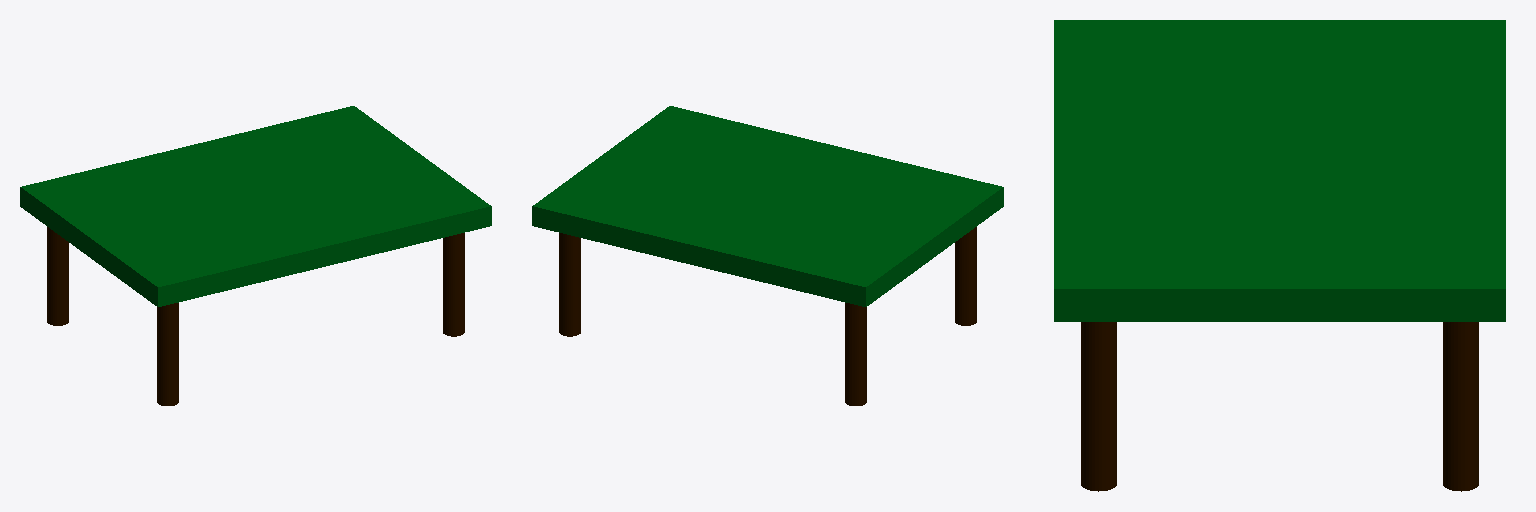
URDF robot description (snooker_table):
<?xml version="1.0"?>
<!--
  Snooker Table URDF for climbing task retargeting (visualization).
  
  Using box + cylinder primitives instead of mesh to match MuJoCo configuration.
  
  SCALED for 1.78m human body (will be auto-scaled to G1 1.32m by retargeting).
  Scale factor: 1.78 / 1.32 = 1.348
  
  Original (for G1 1.32m, see scene_29dof_cue.xml):
  - Table center pos: (0, -1.6, 0.48)
  - Table size (full): 1.4m x 1.0m x 0.08m
  - Leg positions (relative): (±0.6, ±0.4, -0.4)
  - Leg size: radius=0.04m, height=0.8m
  
  Scaled (for human 1.78m, used here):
  - Table center pos: (0, -2.16, 0.65)
  - Table size (full): 1.888m x 1.348m x 0.108m
  - Leg positions (relative): (±0.809, ±0.539, -0.539)
  - Leg size: radius=0.054m, height=1.078m
-->
<robot name="snooker_table">
  <!-- Root world link -->
  <link name="world"/>
  
  <!-- Table top link -->
  <link name="table_top">
    <visual>
      <!-- World position: (0, -2.16, 0.65) -->
      <origin xyz="0 -2.16 0.65" rpy="0 0 0"/>
      <geometry>
        <!-- URDF box uses full size, not half size -->
        <box size="1.888 1.348 0.108"/>
      </geometry>
      <material name="table_material">
        <color rgba="0 0.4 0.1 1"/>
      </material>
    </visual>
    <collision name="table_top_collision">
      <origin xyz="0 -2.16 0.65" rpy="0 0 0"/>
      <geometry>
        <box size="1.888 1.348 0.108"/>
      </geometry>
    </collision>
    <inertial>
      <origin xyz="0 -2.16 0.65" rpy="0 0 0"/>
      <mass value="80.0"/>
      <inertia ixx="10.0" ixy="0.0" ixz="0.0" iyy="10.0" iyz="0.0" izz="10.0"/>
    </inertial>
  </link>
  
  <!-- Connect table_top to world - Joint at origin -->
  <joint name="world_to_table_top" type="fixed">
    <parent link="world"/>
    <child link="table_top"/>
    <origin xyz="0 0 0" rpy="0 0 0"/>
  </joint>
  
  <!-- Leg 1: Front-Right -->
  <link name="leg1">
    <visual>
      <!-- World pos: (0.809, -1.621, 0.298) -->
      <origin xyz="0.809 -1.621 0.298" rpy="0 0 0"/>
      <geometry>
        <cylinder radius="0.054" length="0.596"/>
      </geometry>
      <material name="leg_material">
        <color rgba="0.2 0.1 0 1"/>
      </material>
    </visual>
    <collision name="leg1_collision">
      <origin xyz="0.809 -1.621 0.298" rpy="0 0 0"/>
      <geometry>
        <cylinder radius="0.054" length="0.596"/>
      </geometry>
    </collision>
    <inertial>
      <origin xyz="0.809 -1.621 0.298" rpy="0 0 0"/>
      <mass value="5.0"/>
      <inertia ixx="1.0" ixy="0.0" ixz="0.0" iyy="1.0" iyz="0.0" izz="1.0"/>
    </inertial>
  </link>
  <joint name="world_to_leg1" type="fixed">
    <parent link="world"/>
    <child link="leg1"/>
    <origin xyz="0 0 0" rpy="0 0 0"/>
  </joint>
  
  <!-- Leg 2: Back-Right -->
  <link name="leg2">
    <visual>
      <!-- World pos: (0.809, -2.699, 0.298) -->
      <origin xyz="0.809 -2.699 0.298" rpy="0 0 0"/>
      <geometry>
        <cylinder radius="0.054" length="0.596"/>
      </geometry>
      <material name="leg_material">
        <color rgba="0.2 0.1 0 1"/>
      </material>
    </visual>
    <collision name="leg2_collision">
      <origin xyz="0.809 -2.699 0.298" rpy="0 0 0"/>
      <geometry>
        <cylinder radius="0.054" length="0.596"/>
      </geometry>
    </collision>
    <inertial>
      <origin xyz="0.809 -2.699 0.298" rpy="0 0 0"/>
      <mass value="5.0"/>
      <inertia ixx="1.0" ixy="0.0" ixz="0.0" iyy="1.0" iyz="0.0" izz="1.0"/>
    </inertial>
  </link>
  <joint name="world_to_leg2" type="fixed">
    <parent link="world"/>
    <child link="leg2"/>
    <origin xyz="0 0 0" rpy="0 0 0"/>
  </joint>
  
  <!-- Leg 3: Front-Left -->
  <link name="leg3">
    <visual>
      <!-- World pos: (-0.809, -1.621, 0.298) -->
      <origin xyz="-0.809 -1.621 0.298" rpy="0 0 0"/>
      <geometry>
        <cylinder radius="0.054" length="0.596"/>
      </geometry>
      <material name="leg_material">
        <color rgba="0.2 0.1 0 1"/>
      </material>
    </visual>
    <collision name="leg3_collision">
      <origin xyz="-0.809 -1.621 0.298" rpy="0 0 0"/>
      <geometry>
        <cylinder radius="0.054" length="0.596"/>
      </geometry>
    </collision>
    <inertial>
      <origin xyz="-0.809 -1.621 0.298" rpy="0 0 0"/>
      <mass value="5.0"/>
      <inertia ixx="1.0" ixy="0.0" ixz="0.0" iyy="1.0" iyz="0.0" izz="1.0"/>
    </inertial>
  </link>
  <joint name="world_to_leg3" type="fixed">
    <parent link="world"/>
    <child link="leg3"/>
    <origin xyz="0 0 0" rpy="0 0 0"/>
  </joint>
  
  <!-- Leg 4: Back-Left -->
  <link name="leg4">
    <visual>
      <!-- World pos: (-0.809, -2.699, 0.298) -->
      <origin xyz="-0.809 -2.699 0.298" rpy="0 0 0"/>
      <geometry>
        <cylinder radius="0.054" length="0.596"/>
      </geometry>
      <material name="leg_material">
        <color rgba="0.2 0.1 0 1"/>
      </material>
    </visual>
    <collision name="leg4_collision">
      <origin xyz="-0.809 -2.699 0.298" rpy="0 0 0"/>
      <geometry>
        <cylinder radius="0.054" length="0.596"/>
      </geometry>
    </collision>
    <inertial>
      <origin xyz="-0.809 -2.699 0.298" rpy="0 0 0"/>
      <mass value="5.0"/>
      <inertia ixx="1.0" ixy="0.0" ixz="0.0" iyy="1.0" iyz="0.0" izz="1.0"/>
    </inertial>
  </link>
  <joint name="world_to_leg4" type="fixed">
    <parent link="world"/>
    <child link="leg4"/>
    <origin xyz="0 0 0" rpy="0 0 0"/>
  </joint>

</robot>

--- Facts derived from the render (not from the file) ---
3 views of the same robot in one strip: view 1: azimuth 30°, elevation 25°; view 2: azimuth 150°, elevation 25°; view 3: azimuth 270°, elevation 25° (orthographic).
Model snooker_table with 6 links and 5 joints (5 fixed), rooted at world, posed all joints at 0.
Visible links, largest first — view 1: table_top, leg2, leg4, leg3; view 2: table_top, leg1, leg3, leg4; view 3: table_top, leg1, leg2.
Boxes of the visible links, box(x1,y1,x2,y2) form: table_top: box(20, 106, 491, 306); leg2: box(443, 233, 464, 336); leg4: box(157, 303, 178, 405); leg3: box(47, 227, 68, 325); table_top: box(532, 106, 1003, 306); leg1: box(559, 233, 580, 336); leg3: box(845, 303, 866, 405); leg4: box(955, 227, 976, 325); table_top: box(1054, 20, 1505, 321); leg1: box(1443, 322, 1478, 491); leg2: box(1081, 322, 1116, 491).
Size in the robot's own frame: 1.89 by 1.35 by 0.704 metres.
Geometry: primitives only (box / cylinder / sphere), no mesh files.
